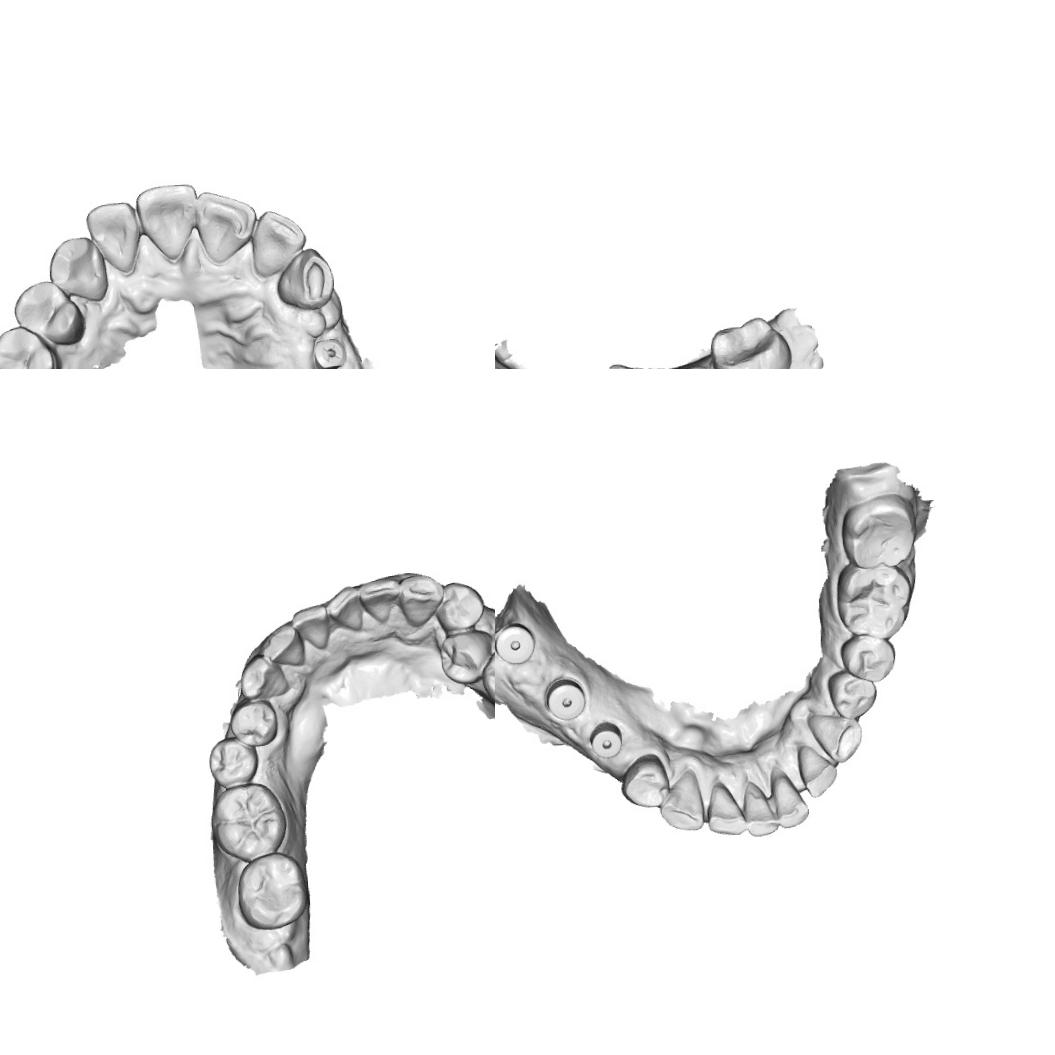canine: (45, 234, 109, 302), (275, 245, 337, 311), (654, 766, 707, 832), (807, 709, 865, 766), (395, 572, 446, 630), (236, 652, 291, 701)
implant: (543, 676, 588, 722), (495, 619, 536, 667), (586, 719, 625, 760)
implant_plus: (309, 335, 347, 369)
incisor: (134, 181, 202, 261), (194, 187, 256, 265), (82, 200, 144, 273), (246, 208, 306, 276), (702, 778, 750, 836), (767, 766, 811, 829), (794, 742, 840, 799), (739, 778, 781, 838), (258, 622, 308, 668), (358, 576, 402, 626), (288, 602, 331, 653), (322, 584, 365, 634)
molar: (833, 555, 914, 642), (208, 780, 290, 865), (838, 491, 919, 571), (233, 850, 309, 932), (706, 313, 794, 369)
premolar: (12, 278, 86, 347), (436, 627, 495, 686), (838, 631, 898, 685), (616, 751, 671, 809), (824, 666, 879, 722), (204, 734, 260, 788), (433, 579, 486, 632), (226, 697, 280, 748), (0, 322, 58, 369)
